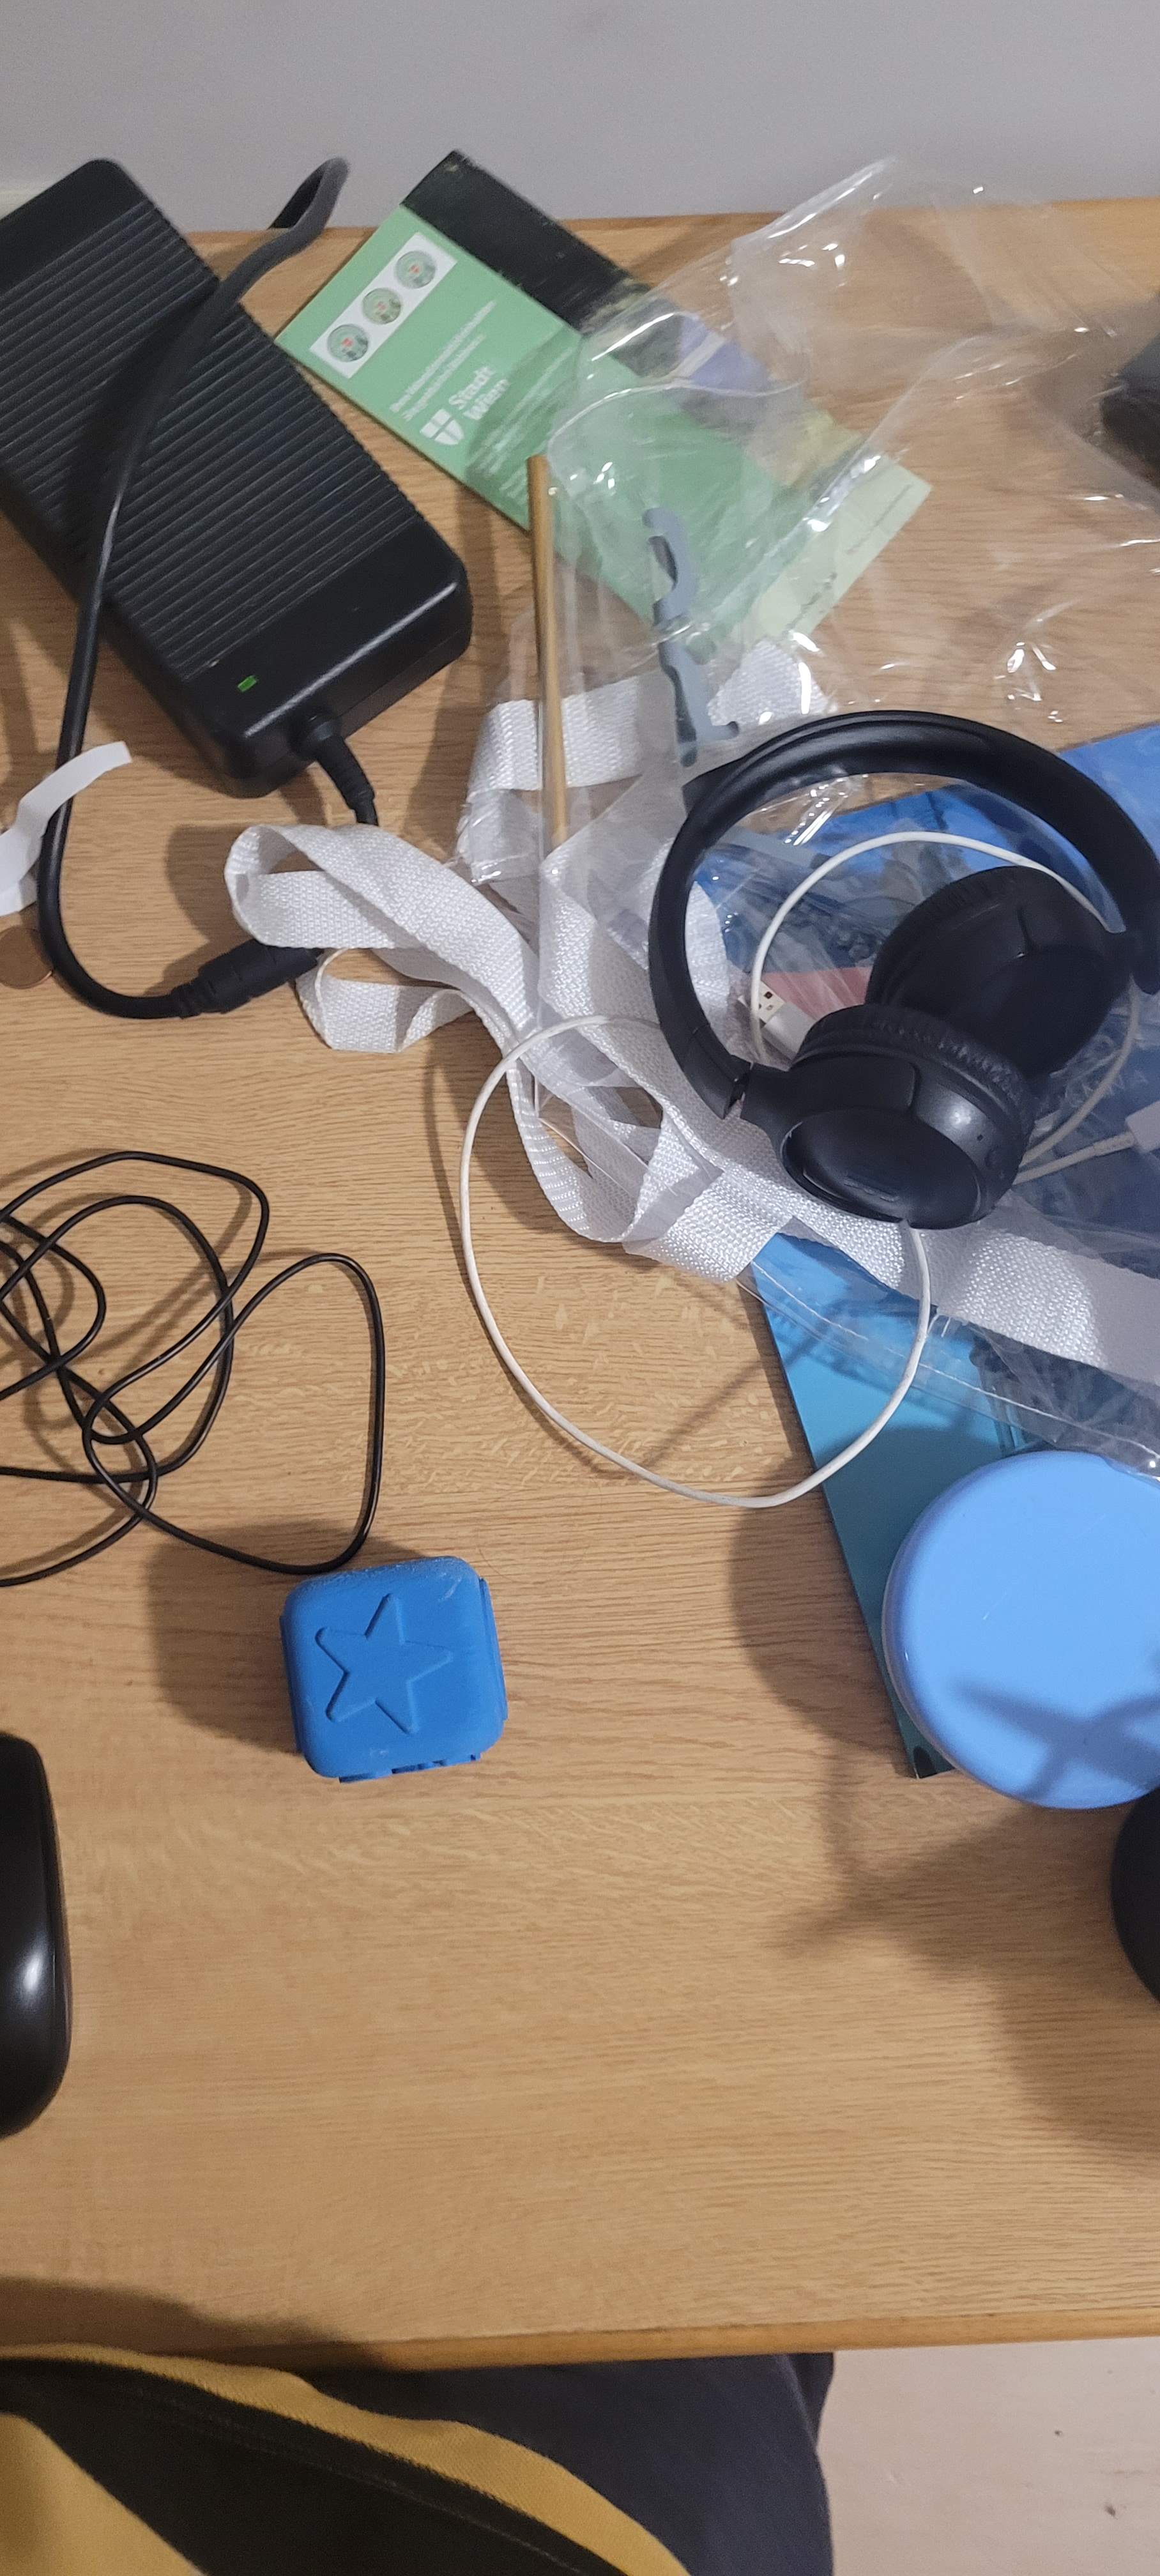Star: (294, 1584, 470, 1745)
